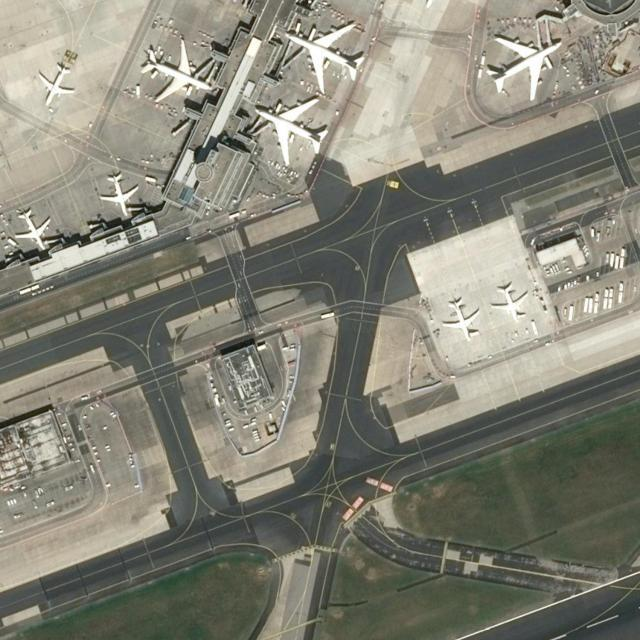Aircraft: (277, 18, 365, 95), (481, 28, 567, 104), (249, 91, 332, 166), (137, 31, 217, 107), (94, 170, 142, 220), (32, 58, 76, 110), (438, 293, 481, 343), (13, 203, 54, 254), (489, 278, 531, 325)
